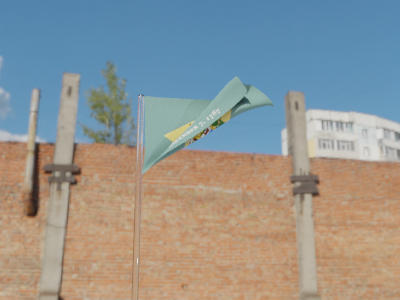Delaware flag: (136, 73, 276, 175)
